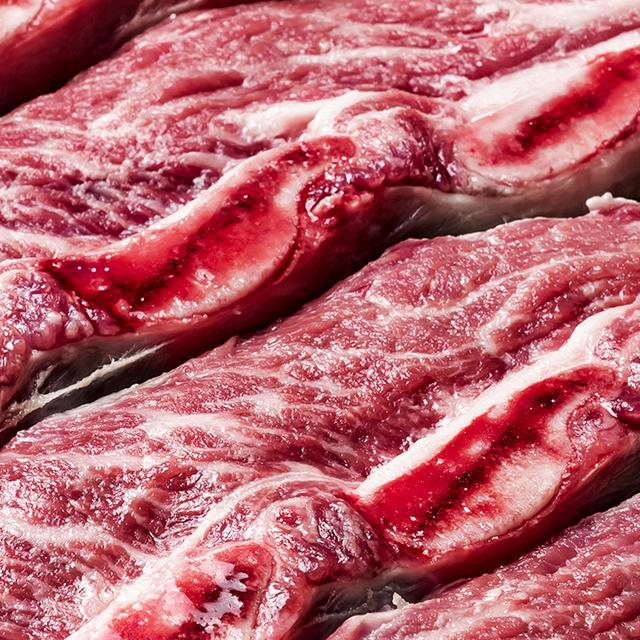beef: (0, 88, 561, 631)
